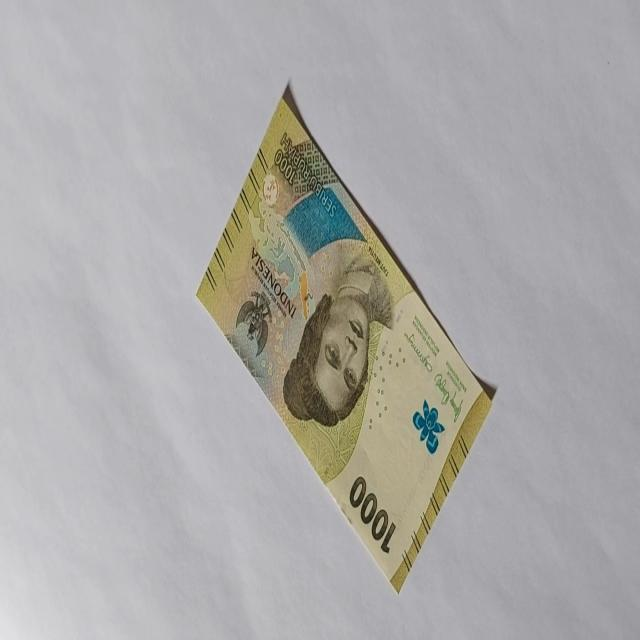seribu rupiah kertas: (194, 81, 496, 595)
